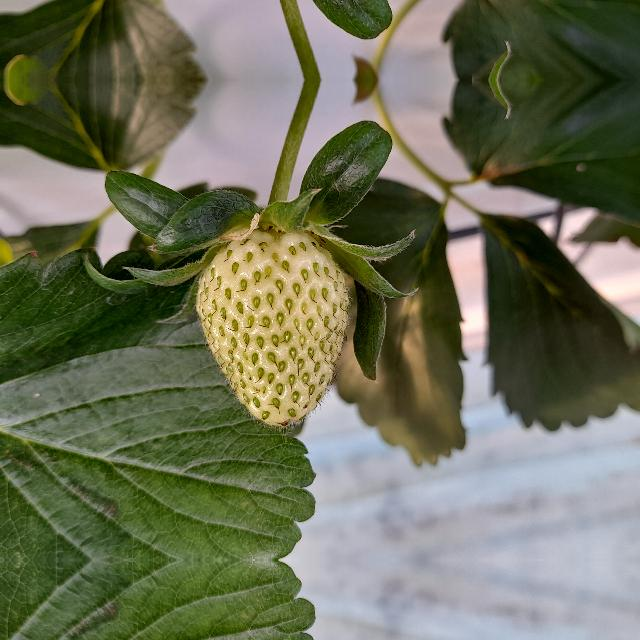Health_25: (192, 229, 352, 431)
